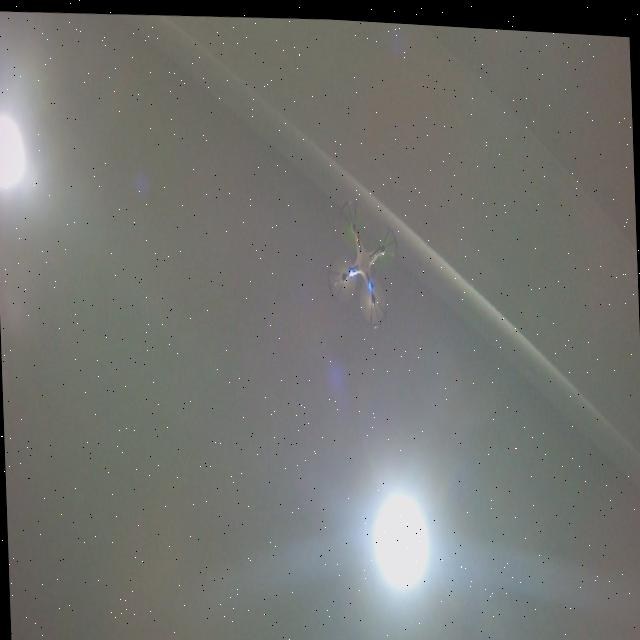drone: (322, 188, 403, 329)
